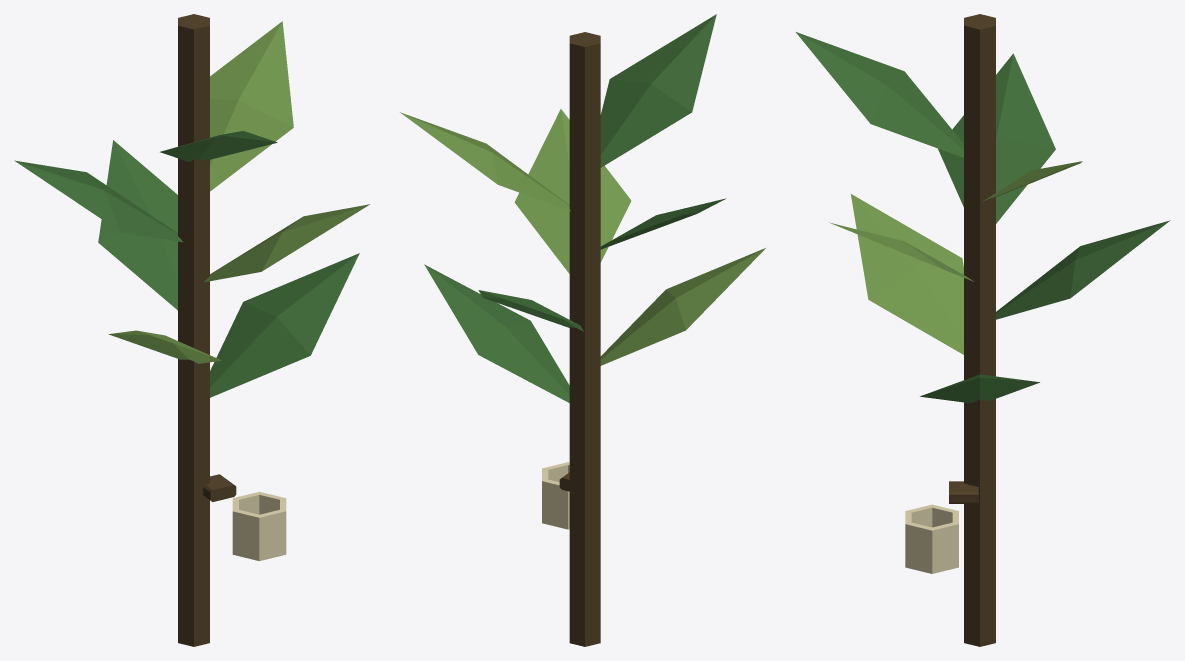
Rendered from RubberPlant3.gltf.
The picture shows the model from 3 angles, left to right: view 1: azimuth 30°, elevation 25°; view 2: azimuth 150°, elevation 25°; view 3: azimuth 270°, elevation 25°; orthographic projection. The views are drawn at different scales.
Parts seen in each view (by area): view 1: RubberPlant3; view 2: RubberPlant3; view 3: RubberPlant3.
Part boxes in pixels (x1,y1,x2,y2): RubberPlant3: (14,14,370,646); RubberPlant3: (400,14,765,646); RubberPlant3: (796,14,1170,646).
Size of the model in its own units: 0.516 by 0.925 by 0.5101.
